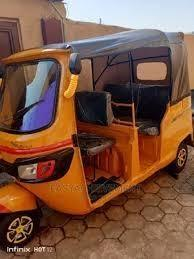keke: (0, 27, 194, 254)
